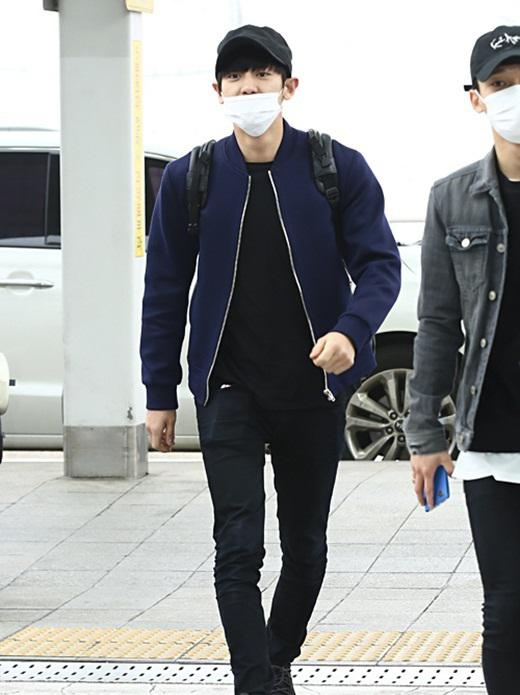OK: (475, 71, 520, 146)
WRONG: (218, 61, 288, 131)
